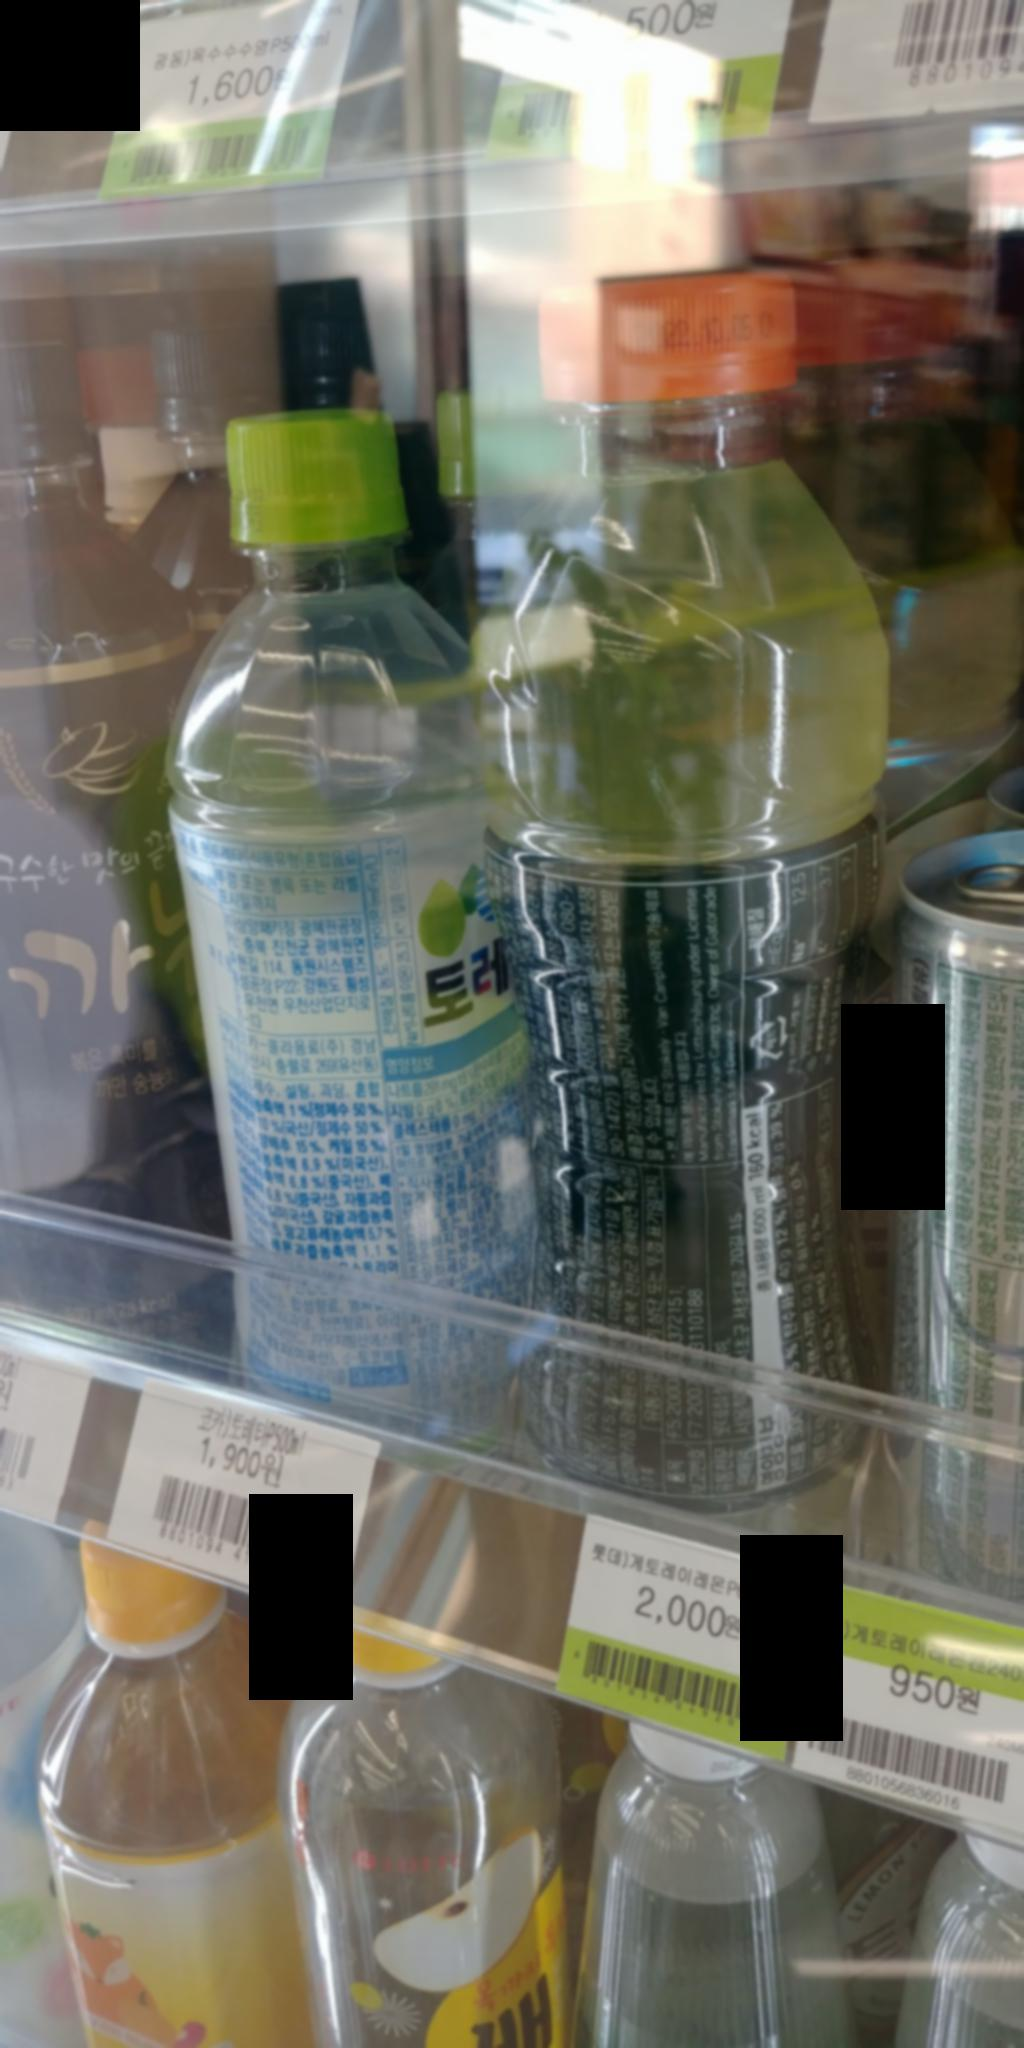gatorade_lemon: (464, 223, 866, 1532)
toreta: (152, 398, 568, 1458)
